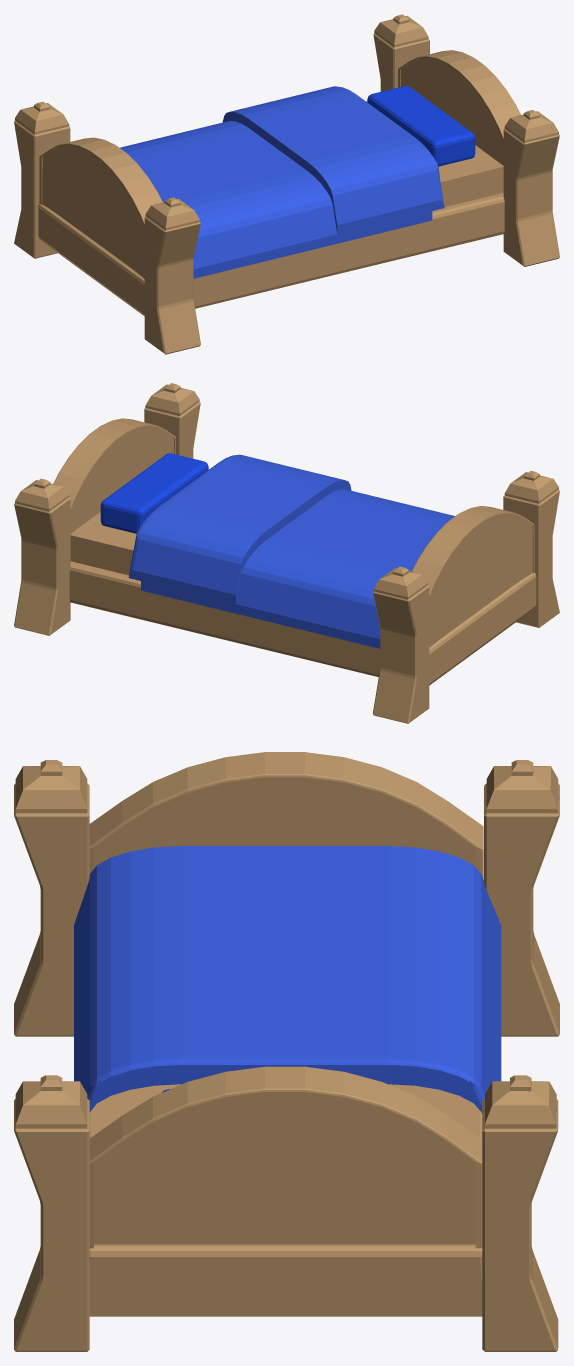
The model's file is Small Bed.fbx.
The picture shows the model from 3 angles, top to bottom: view 1: azimuth 30°, elevation 25°; view 2: azimuth 150°, elevation 25°; view 3: azimuth 270°, elevation 25°; orthographic projection. The views are drawn at different scales.
Parts seen in each view (by area): view 1: Small Bed; view 2: Small Bed; view 3: Small Bed.
Boxes of the visible parts, x1=… form: Small Bed: x1=14, y1=14, x2=559, y2=354; Small Bed: x1=14, y1=383, x2=559, y2=723; Small Bed: x1=14, y1=752, x2=559, y2=1351.
Size of the model in its own units: 406 by 141 by 269.
